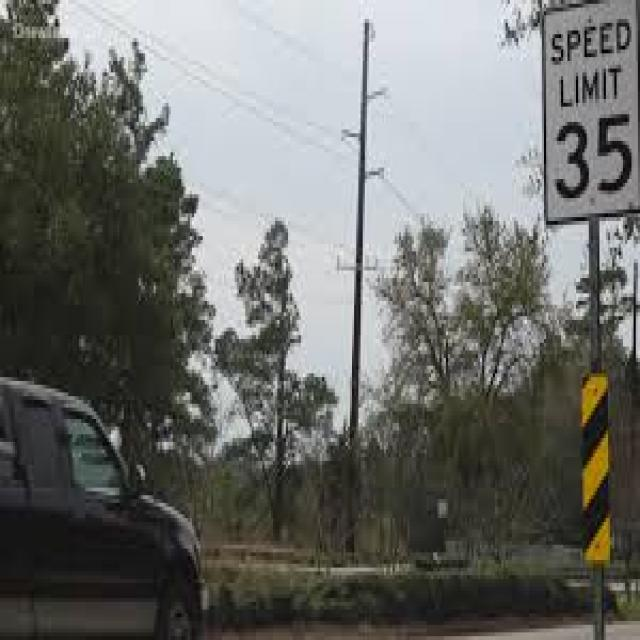speedLimit35: (543, 13, 635, 212)
